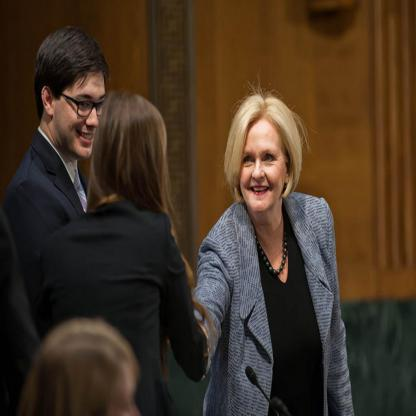face: (241, 118, 286, 211), (61, 72, 106, 160)
